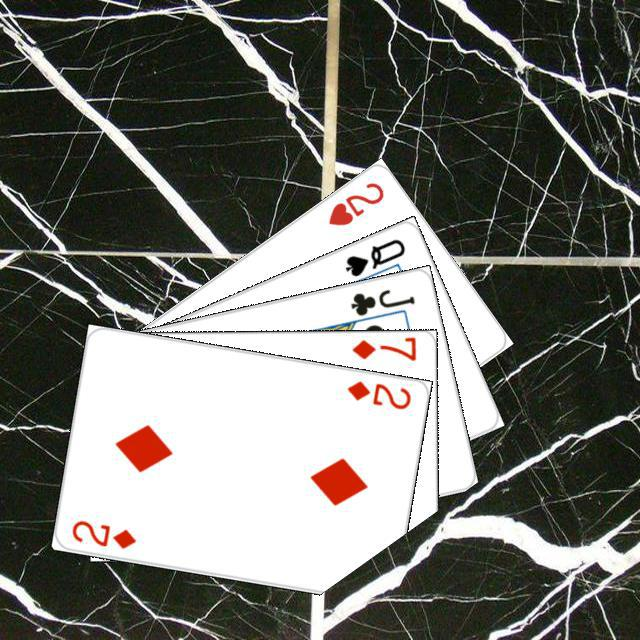2d: (342, 375, 413, 411), (67, 515, 137, 551)
2h: (323, 177, 386, 228)
7d: (347, 334, 418, 362)
Jc: (345, 284, 417, 318)
Qs: (340, 234, 407, 279)
